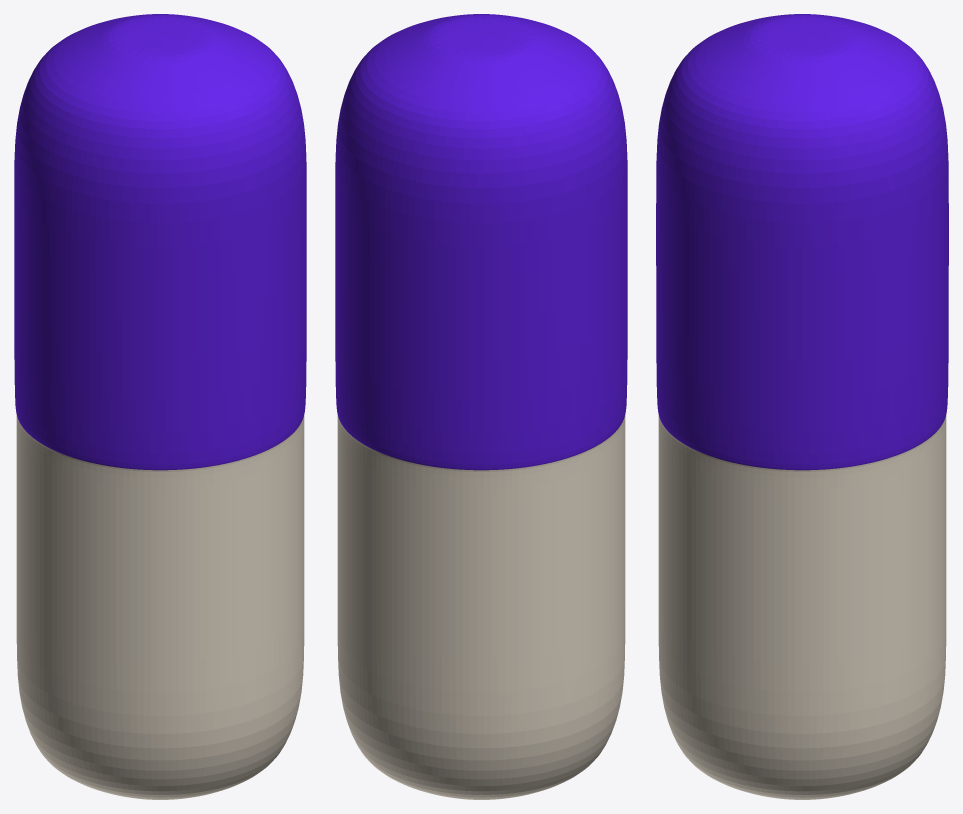
Rendered from PastillasMorada.fbx.
3 renders of one model, left to right at view 1: azimuth 30°, elevation 25°; view 2: azimuth 150°, elevation 25°; view 3: azimuth 270°, elevation 25°, orthographic.
Visible parts, largest first — view 1: Pastilla2; view 2: Pastilla2; view 3: Pastilla2.
Boxes of the visible parts, bbox=[...] form: Pastilla2: bbox=[14, 14, 306, 799]; Pastilla2: bbox=[335, 14, 627, 799]; Pastilla2: bbox=[656, 14, 948, 799].
Size of the model in its own units: 202 by 567 by 202.
